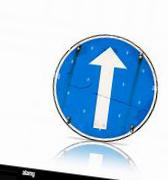forward: (52, 33, 157, 142)
